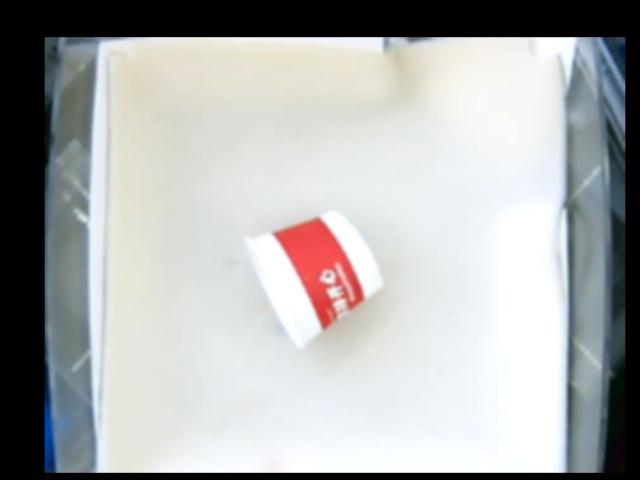Cup: (245, 207, 382, 351)
